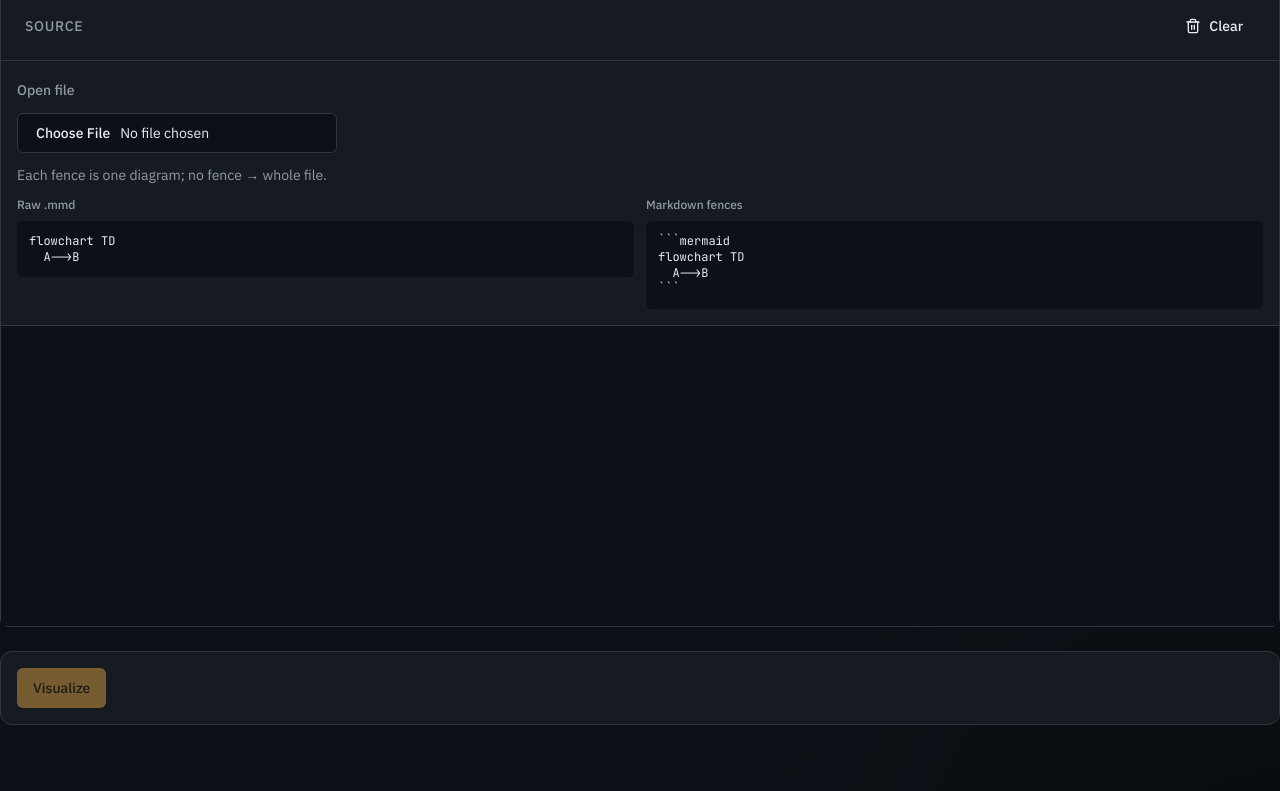
Test case: MermaidTool › opens a lightbox from View and closes it
The width and height of the screenshot is (1280, 791).
Type "flowchart TD" into the text box named "Mermaid source" at (640, 476), box [1,326,1279,626]
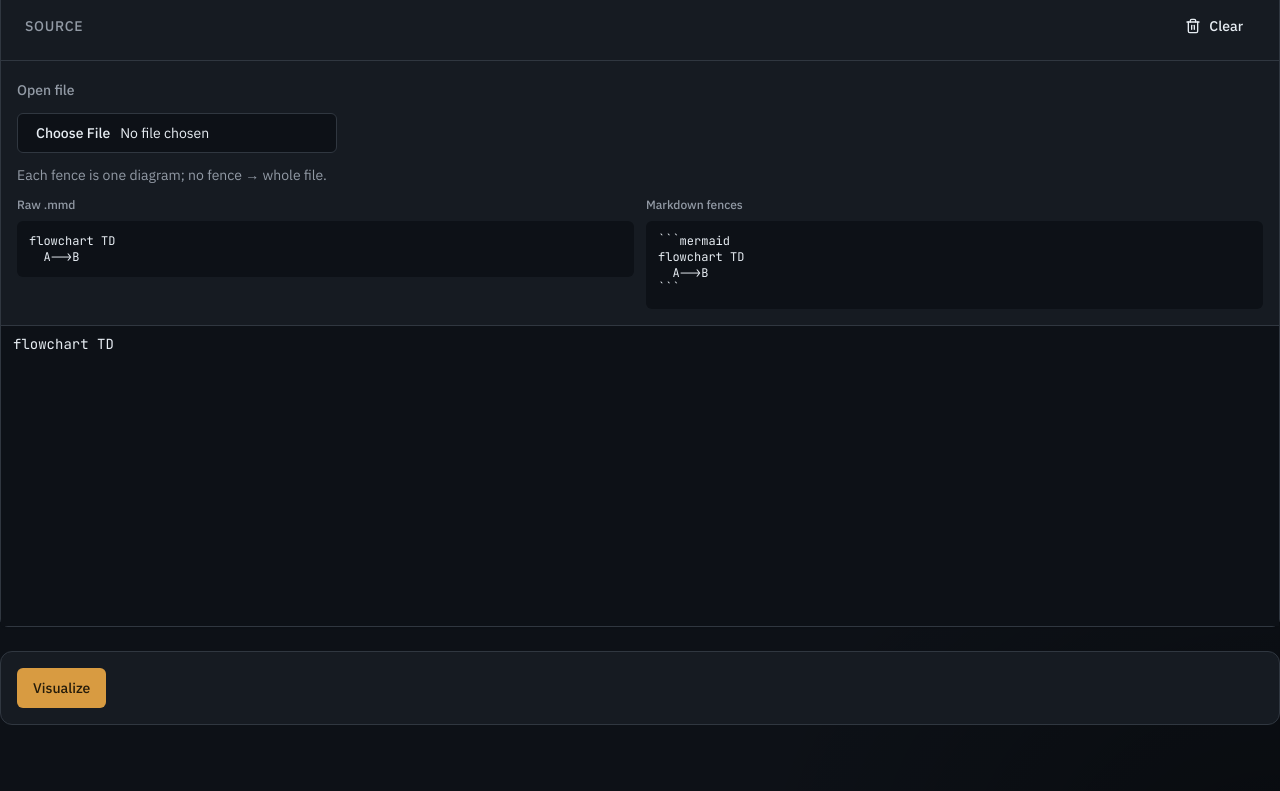
Click the button "Visualize" at (62, 688), box [17,668,106,708]
(page scrolled)
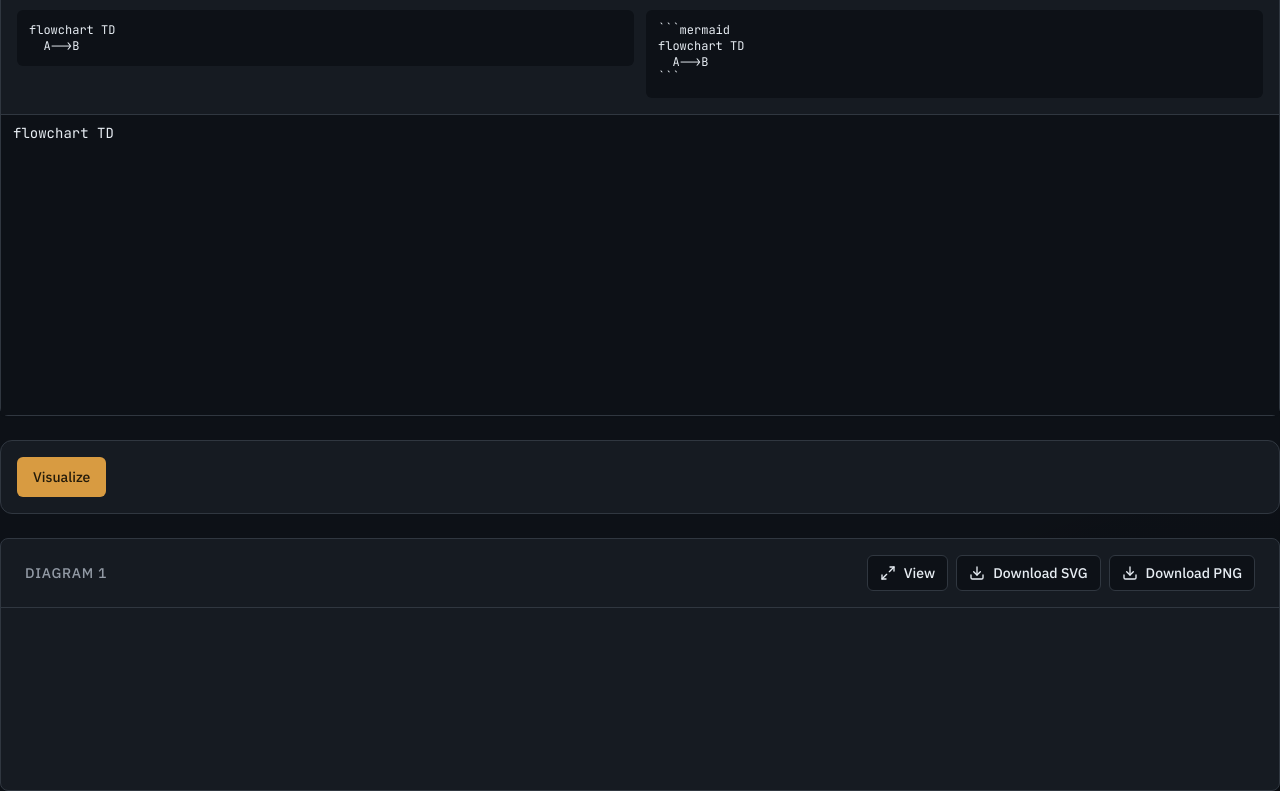
Click the button "View" at (908, 573), box [867,555,948,591]
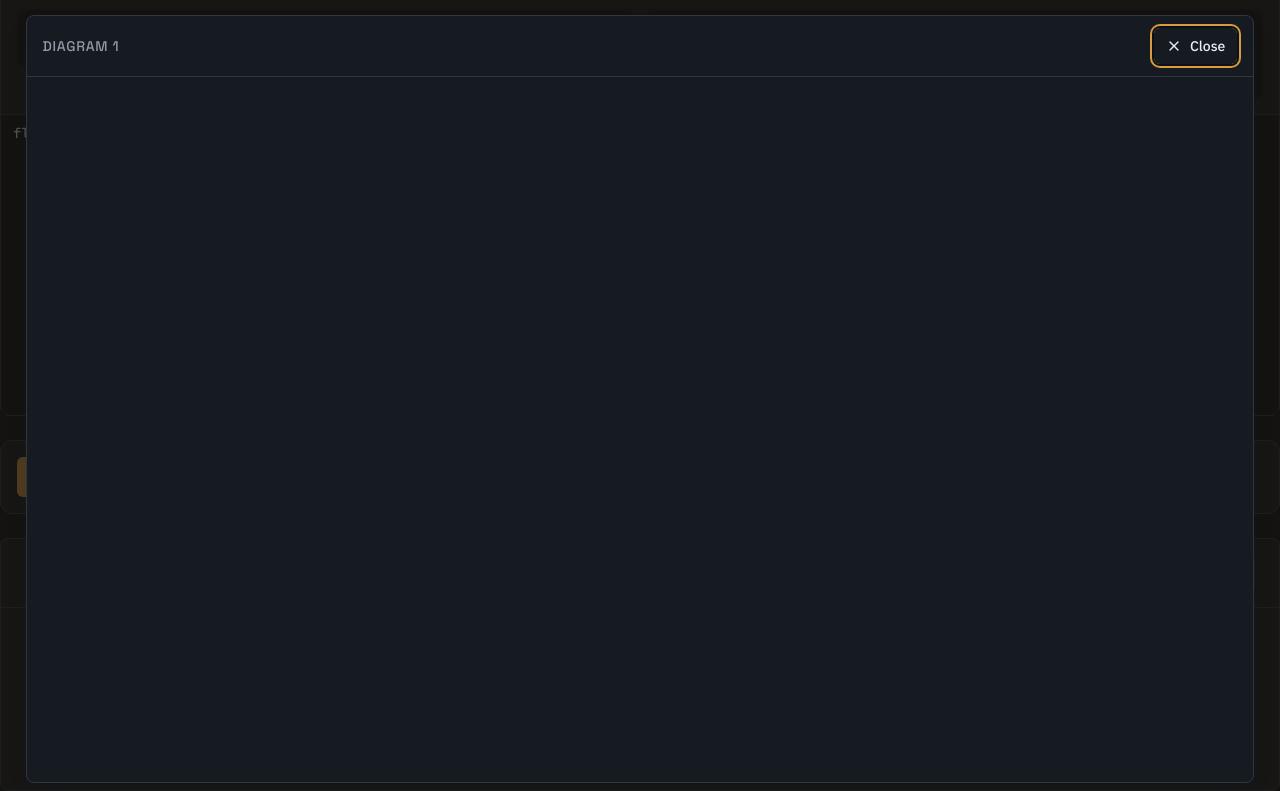
Result: the dialog shows "Diagram 1" at [43,37,119,55]
Click the button "Close" at (1196, 46), box [1154,28,1237,64]
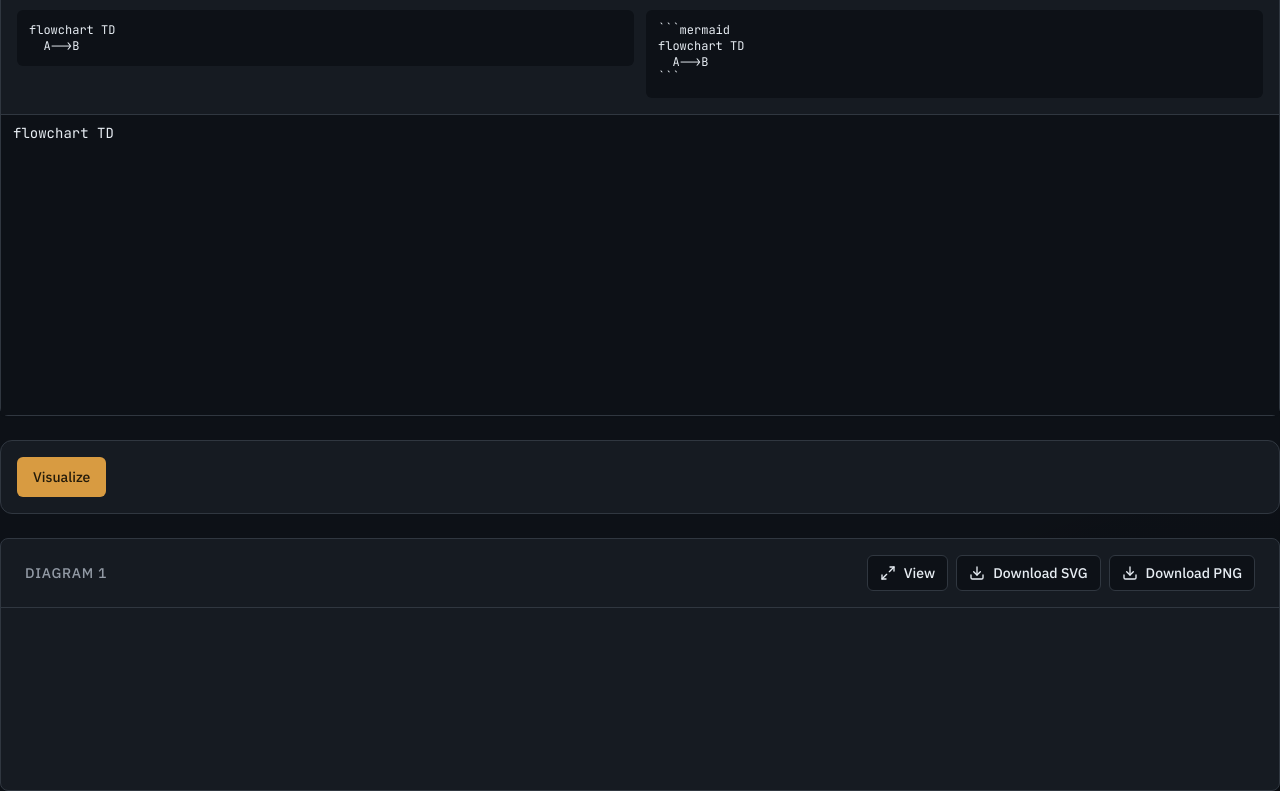
Result: the dialog is gone
